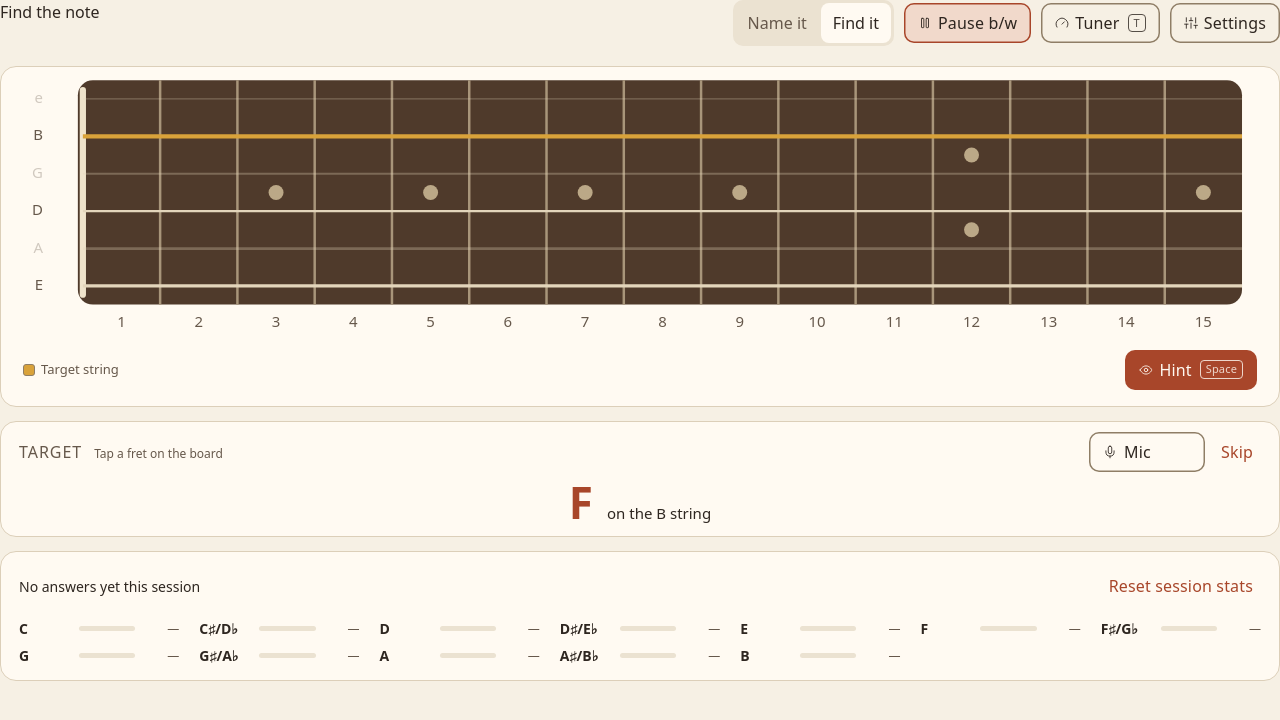
Test case: NoteTrainer › Defaults resets the dialog fields, keeping mode and pause
This screenshot has width=1280, height=720.
Click the button "Settings". click: (1225, 23)
box: [1170, 3, 1279, 43]
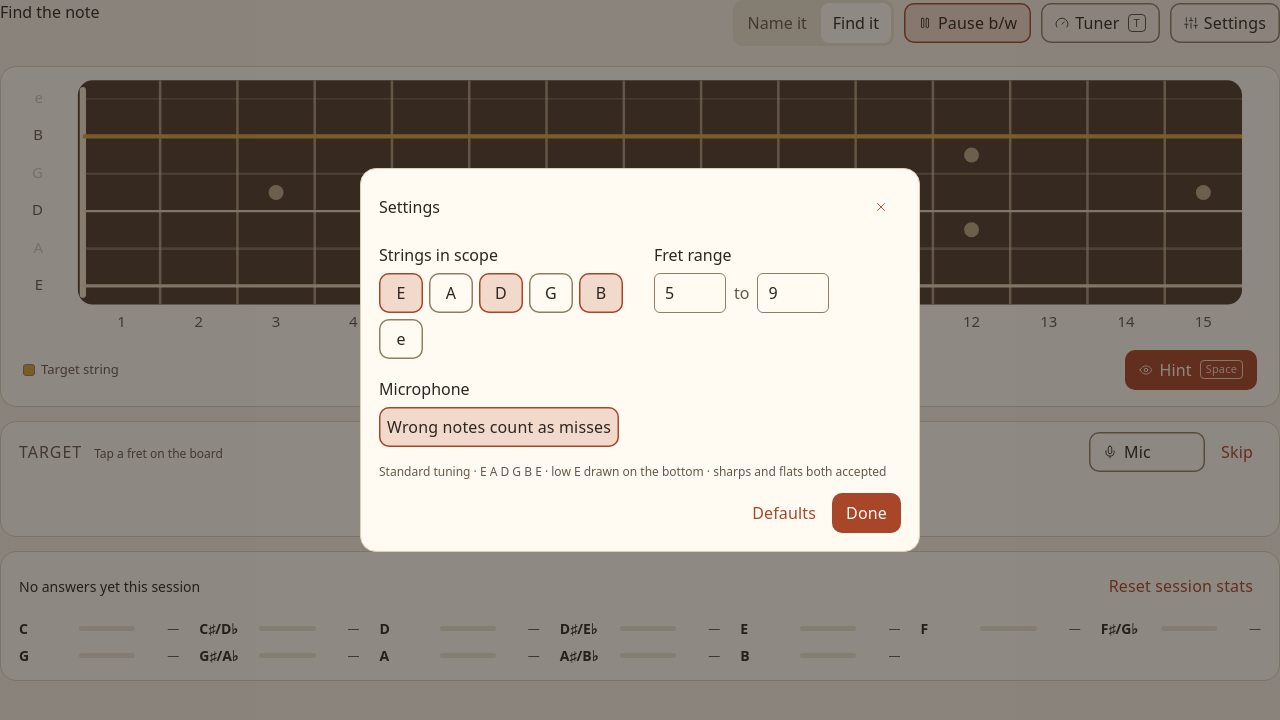
Click the button "Defaults". click: (784, 513)
box: [744, 493, 824, 533]
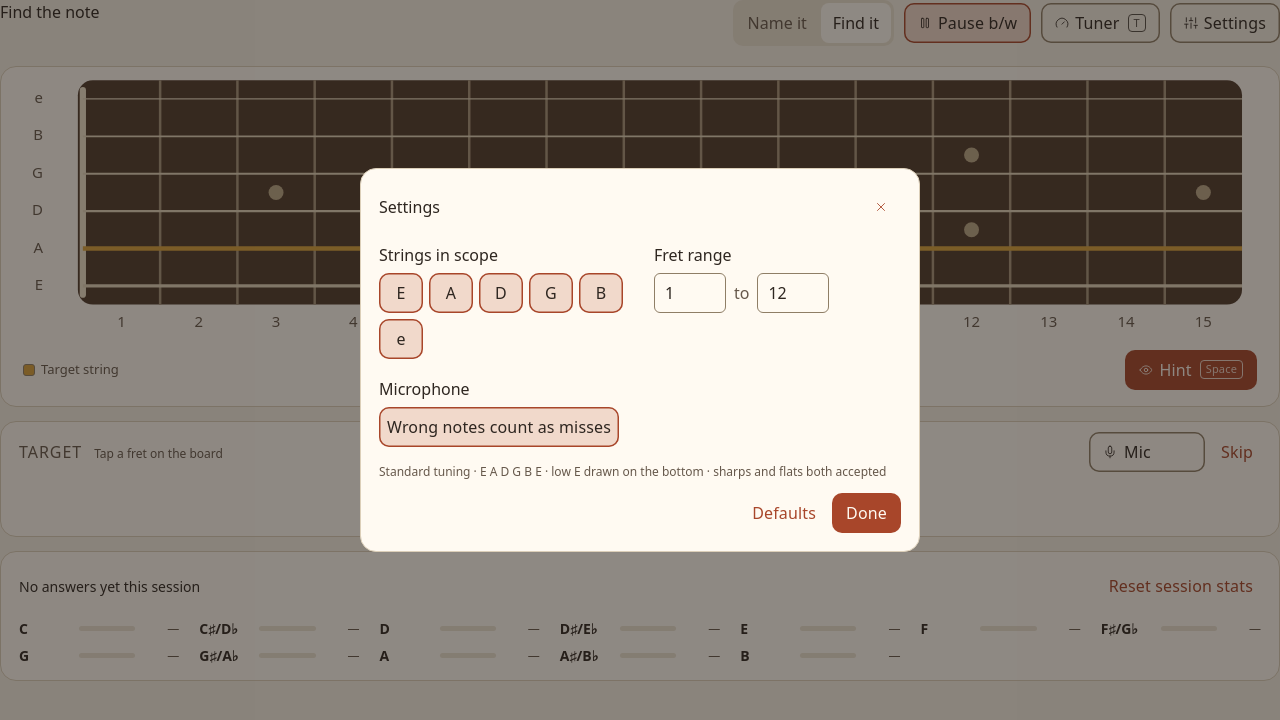
expect the dialog "Settings" is shown: met, box [360, 168, 920, 552]
expect the number field named "Range start fret" holds "1": met, box [654, 273, 726, 313]
expect the number field named "Range end fret" holds "12": met, box [758, 273, 830, 313]
